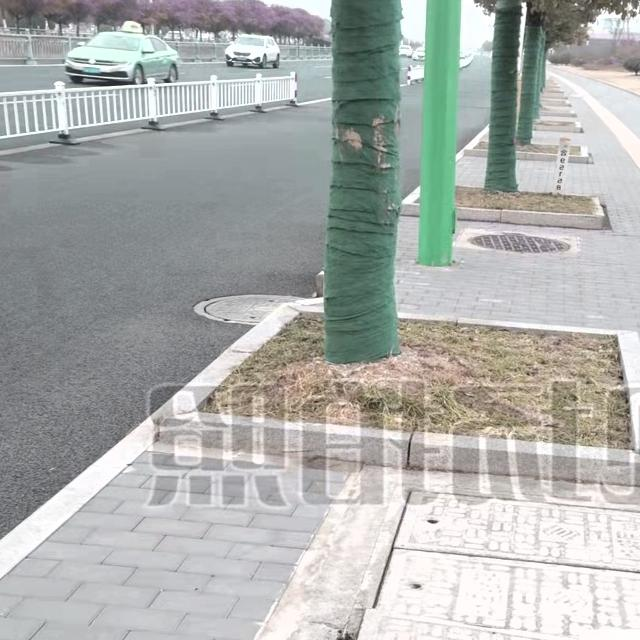good: (194, 289, 308, 324), (467, 231, 575, 255)
uncovered: (305, 488, 640, 640)
